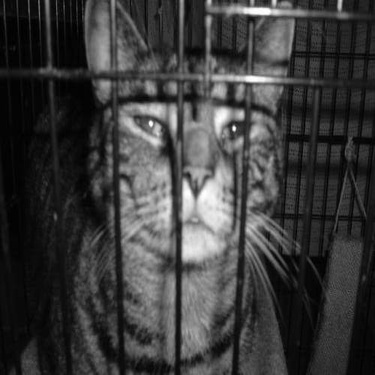cat: (30, 15, 300, 351)
